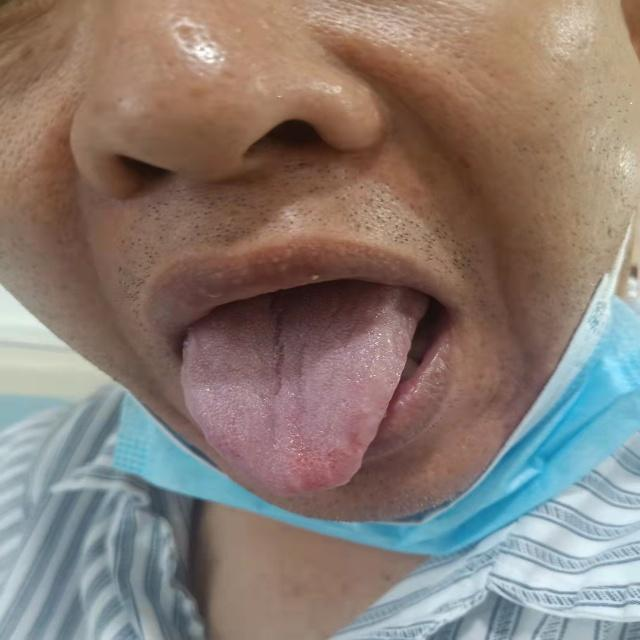liewenshe: (270, 306, 286, 400)
zishe: (181, 286, 425, 497)
